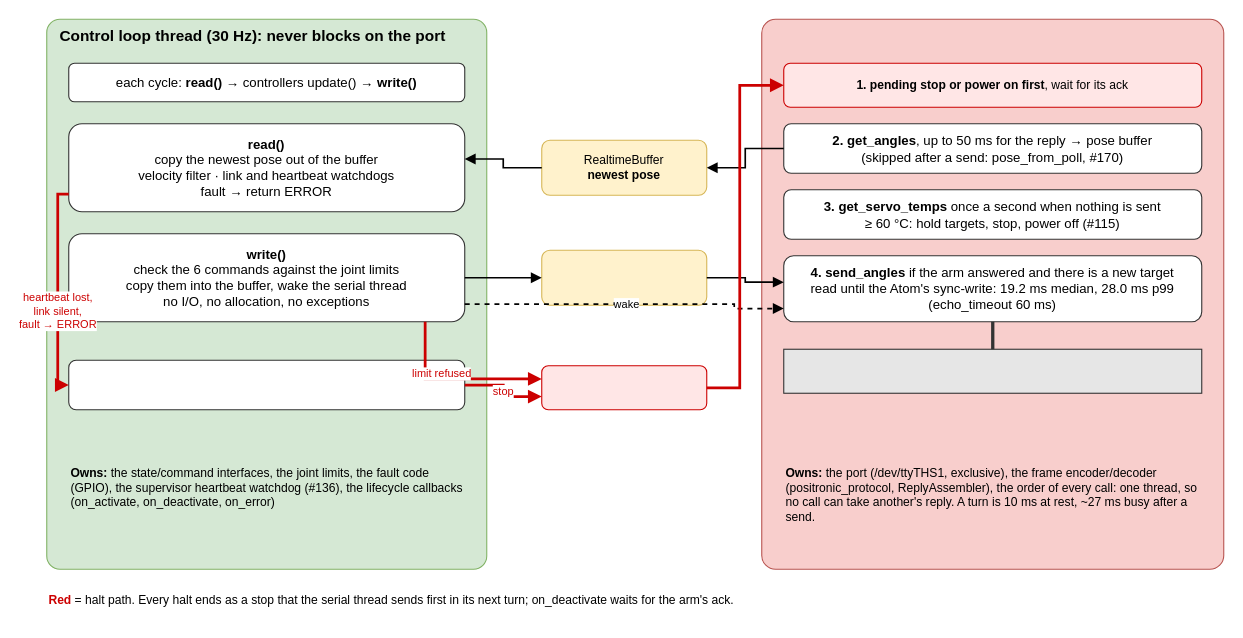
The diagram is 1243 pixels wide and 638 high, and some of its shapes have lost their labels. The shapes that lost their labels are listed below. From the top down, each one's box as (x1, y1, x2, y2) in pixels, then its label:
(541, 249, 707, 305): RealtimeBuffer newest command
(761, 18, 1224, 569): Serial thread (SerialArm): the only one on the port
(68, 359, 465, 410): on_deactivate (supervisor halt) on_error (any ERROR)
(541, 365, 707, 410): halt request (non-blocking)
(783, 348, 1202, 393): PosixSerialPort → UART → Atom
